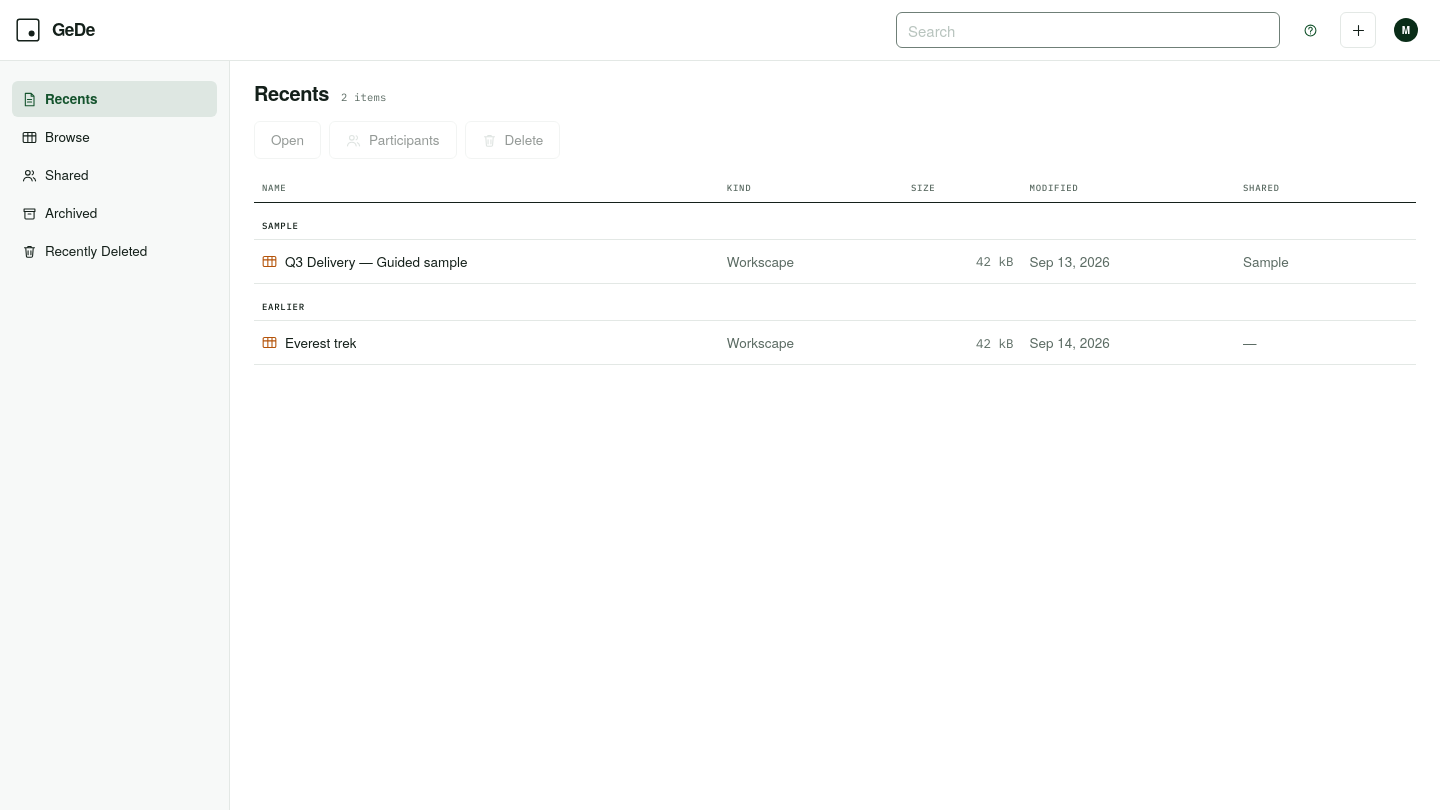
Test: TourController › ONB-08 KEYS-01 the help control also opens the keyboard shortcut sheet from the library
This screenshot has width=1440, height=810.
Expected: the text "Everest trek" is shown, [285, 332, 356, 354]
Click the button named "Help": {"x": 1310, "y": 30} [1292, 12, 1328, 48]
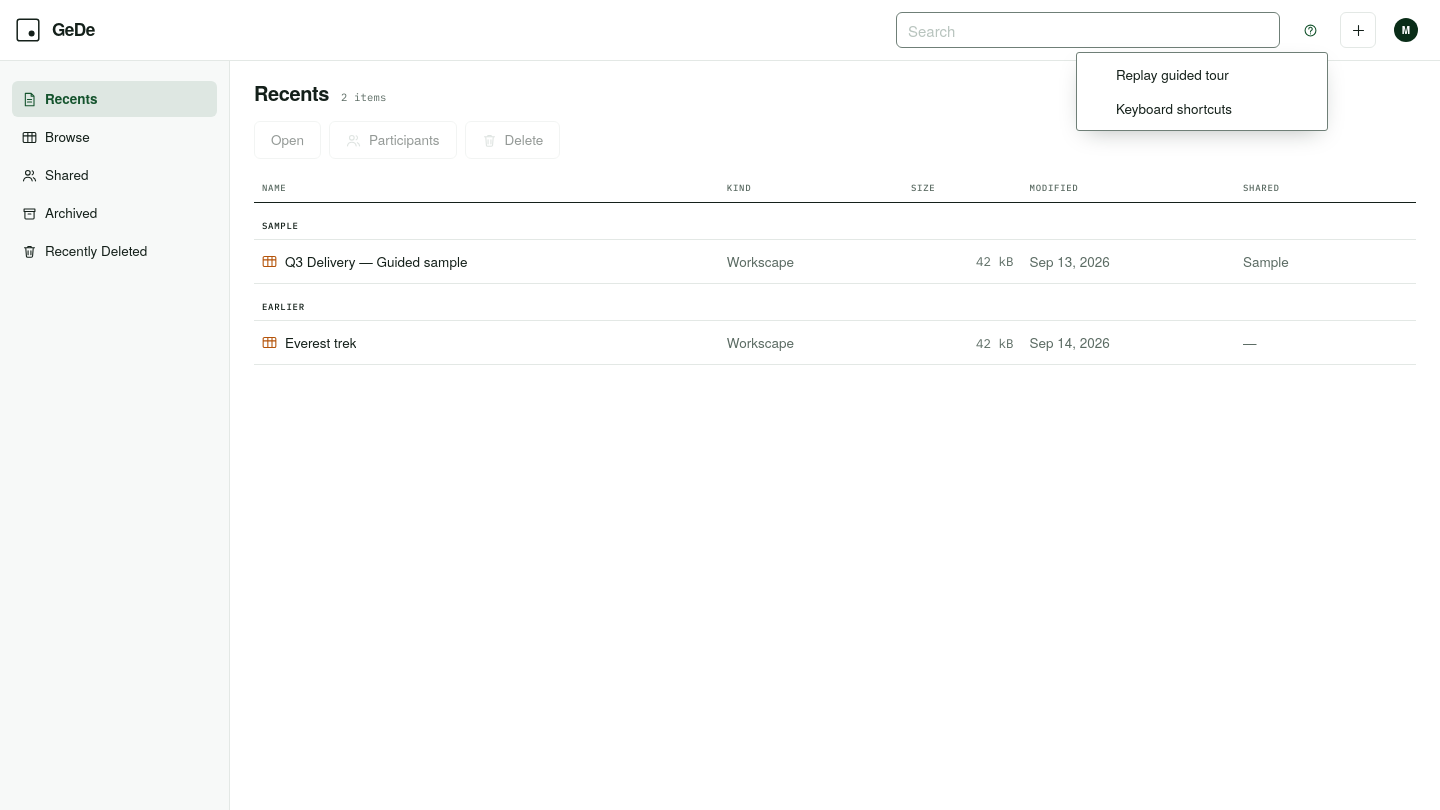
Click the menu item "Keyboard shortcuts": {"x": 1174, "y": 108} [1116, 99, 1232, 118]
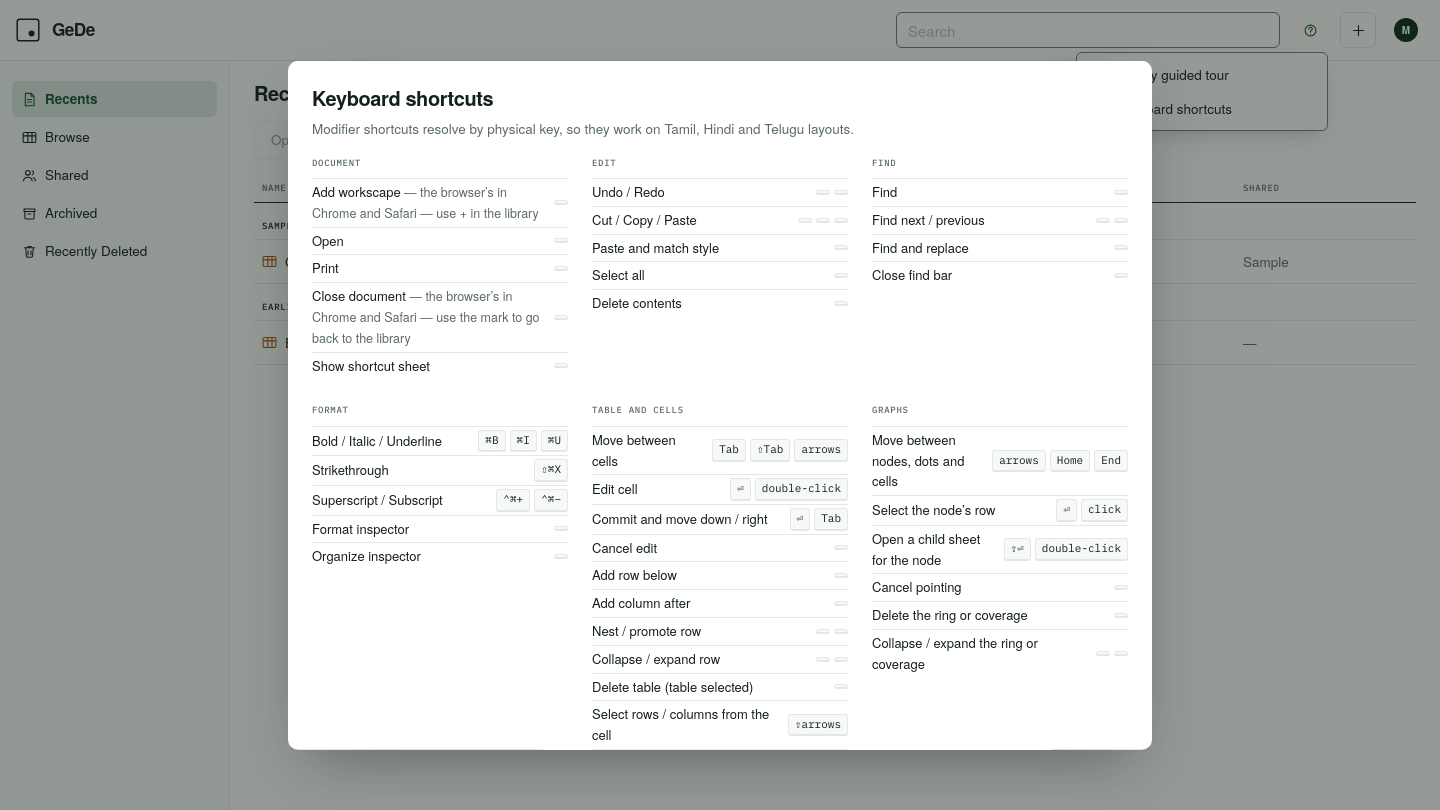
Expected: the dialog "Keyboard shortcuts" is shown, [288, 61, 1152, 749]
